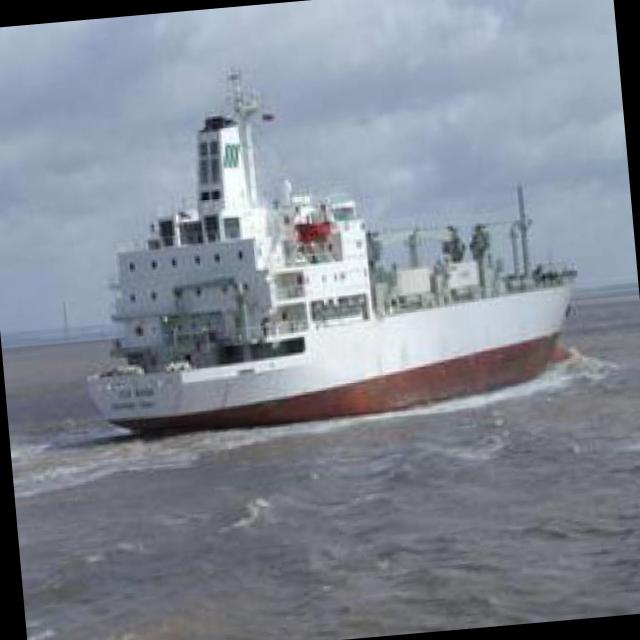boat: (55, 104, 588, 438)
